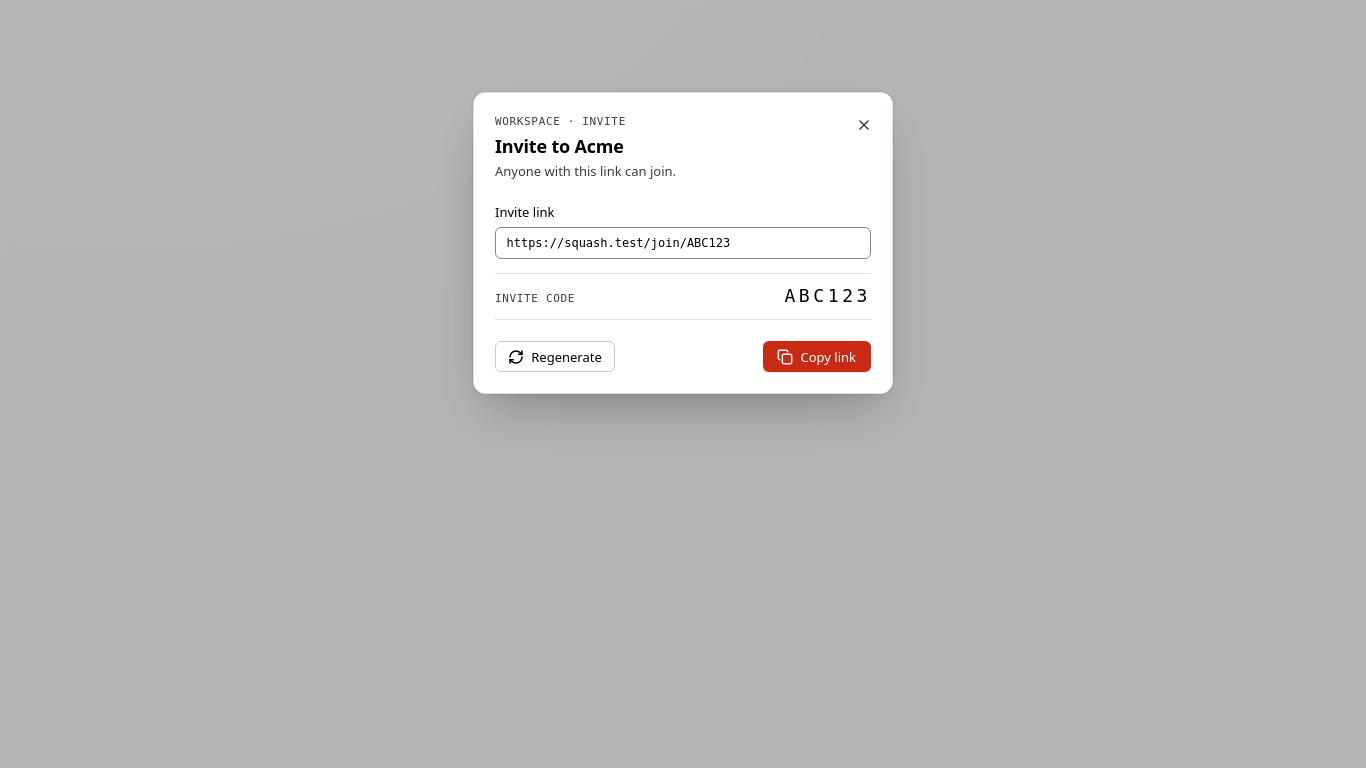
Scenario: InviteDialog › requires confirmation before regenerating and then shows the new code
Click the button "Regenerate".
click(555, 357)  # box [495, 341, 615, 372]
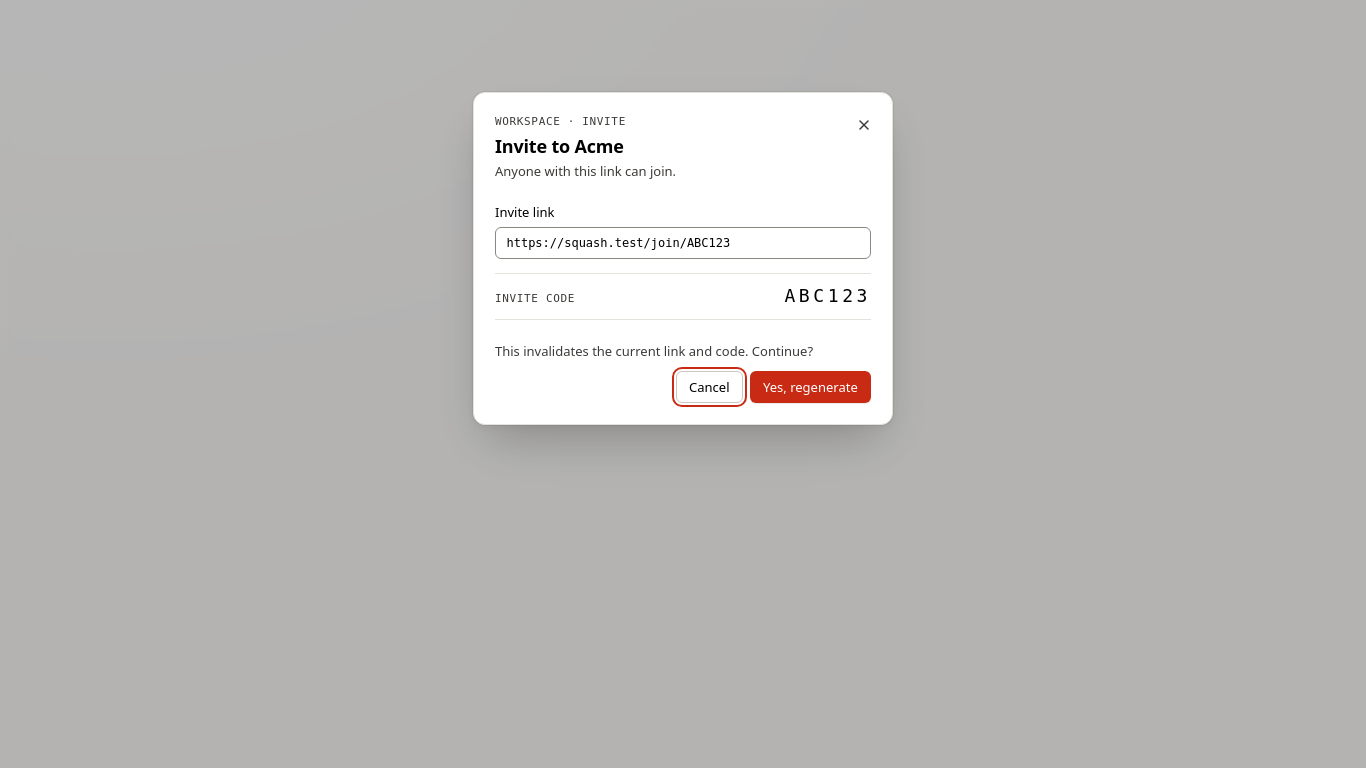
expect the text "This invalidates the current link and code. Continue?" is shown: met, box [495, 342, 813, 360]
Click the button "Yes, regenerate".
click(810, 387)  # box [750, 371, 871, 403]
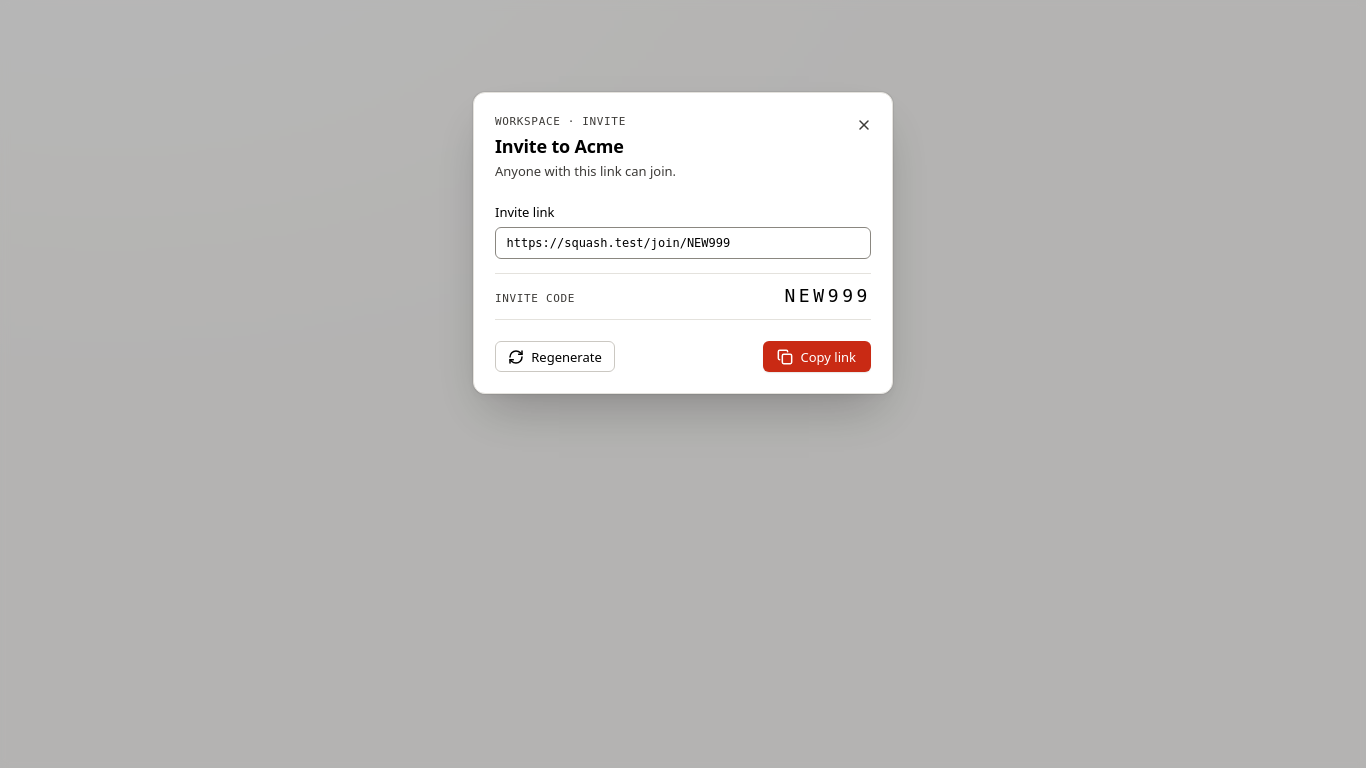
expect the text "NEW999" is shown: met, box [784, 284, 871, 308]
expect the field labelled "Invite link" holds "https://squash.test/join/NEW999": met, box [495, 227, 871, 259]
expect the text "invalidates the current link" is gone: met
